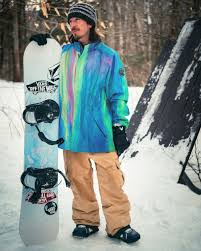snowboard: (19, 36, 64, 251)
